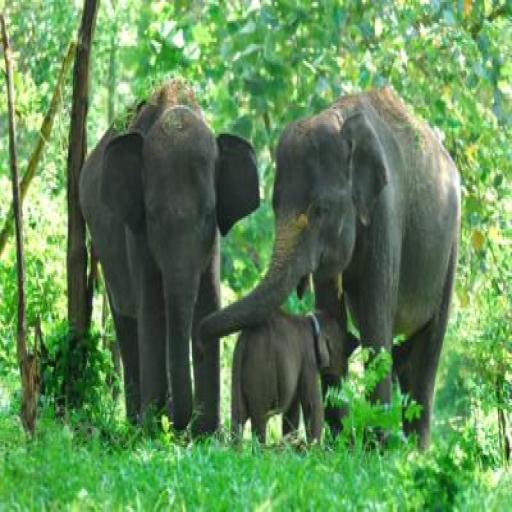Elephant: (182, 72, 481, 472), (66, 60, 252, 458), (207, 287, 359, 485)
